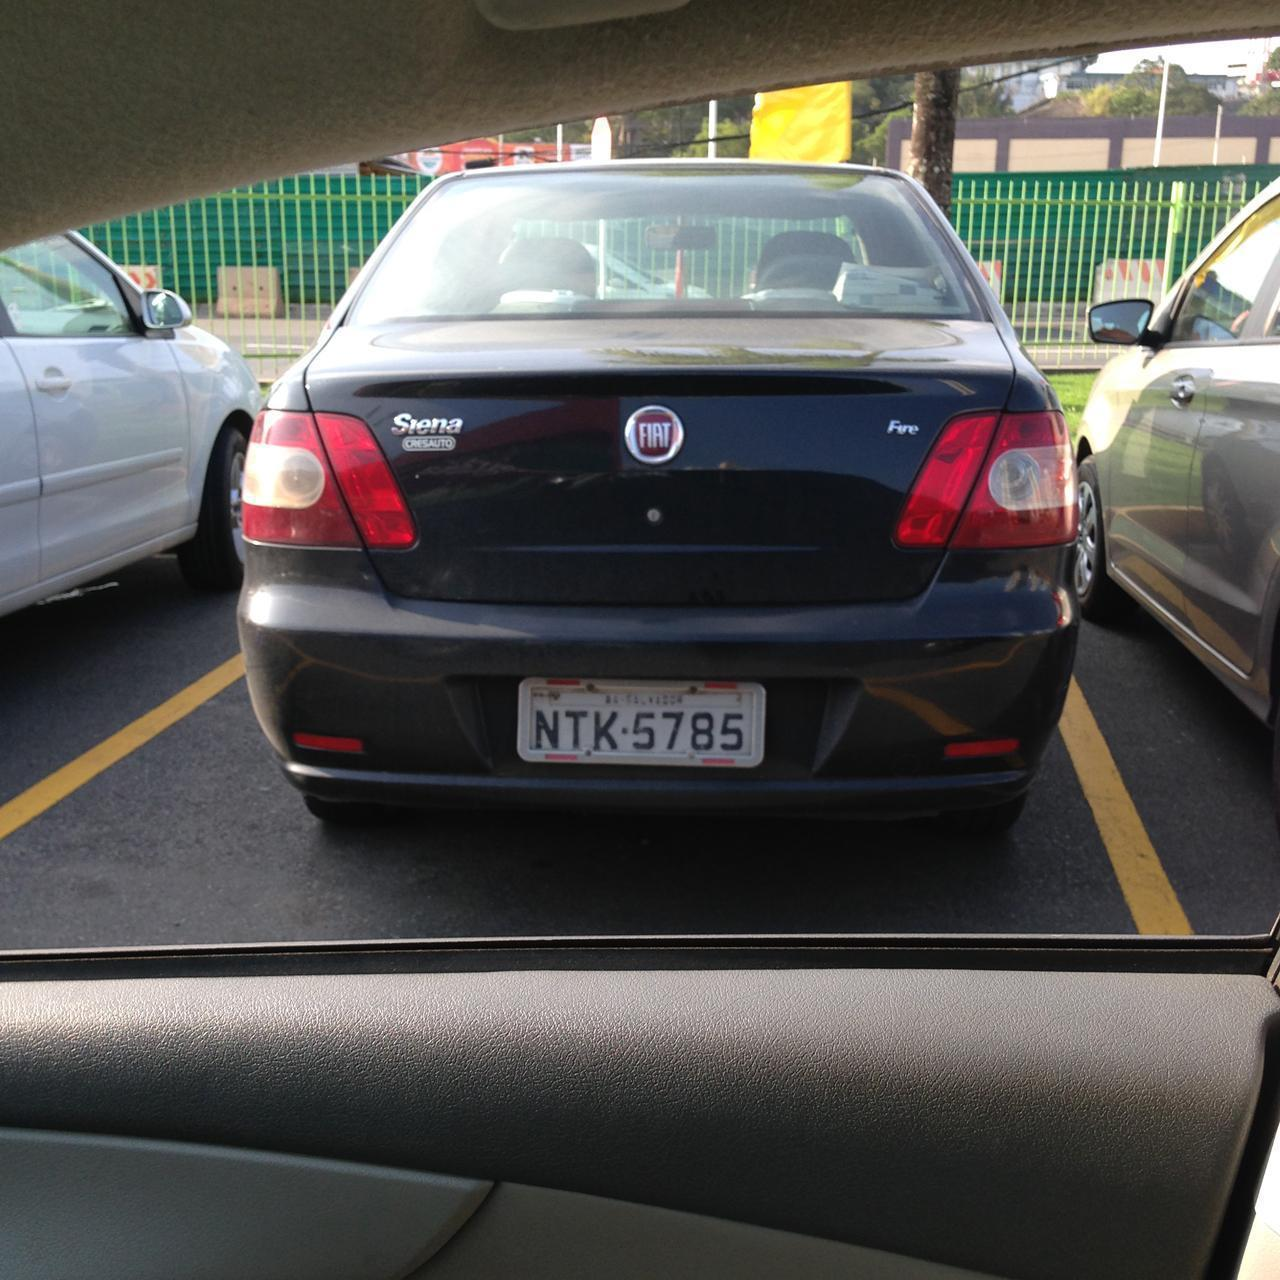placa de veiculo: (504, 660, 780, 794)
